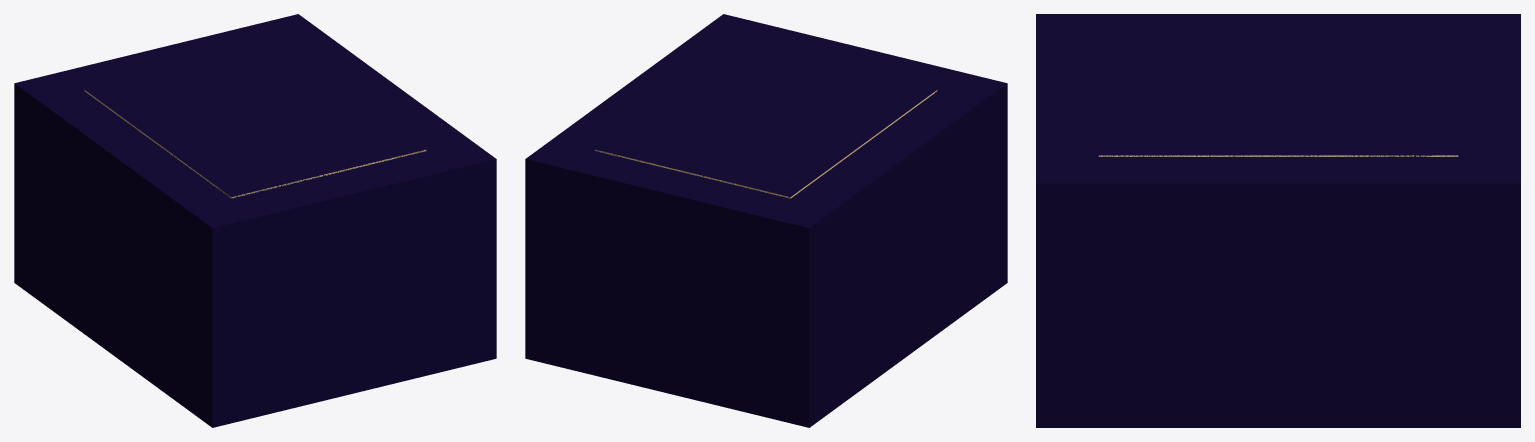
The model's file is tower.glb.
3 renders of one model, left to right at view 1: azimuth 30°, elevation 25°; view 2: azimuth 150°, elevation 25°; view 3: azimuth 270°, elevation 25°, orthographic. The views are drawn at different scales.
Visible parts, largest first — view 1: base, turret; view 2: base, turret; view 3: base, turret.
Boxes of the visible parts, x1=… form: base: x1=14, y1=14, x2=496, y2=427; turret: x1=84, y1=42, x2=426, y2=198; base: x1=525, y1=14, x2=1007, y2=427; turret: x1=595, y1=42, x2=937, y2=198; base: x1=1036, y1=14, x2=1520, y2=427; turret: x1=1098, y1=38, x2=1458, y2=156.
Size of the model in its own units: 0.192 by 0.13 by 0.232.
